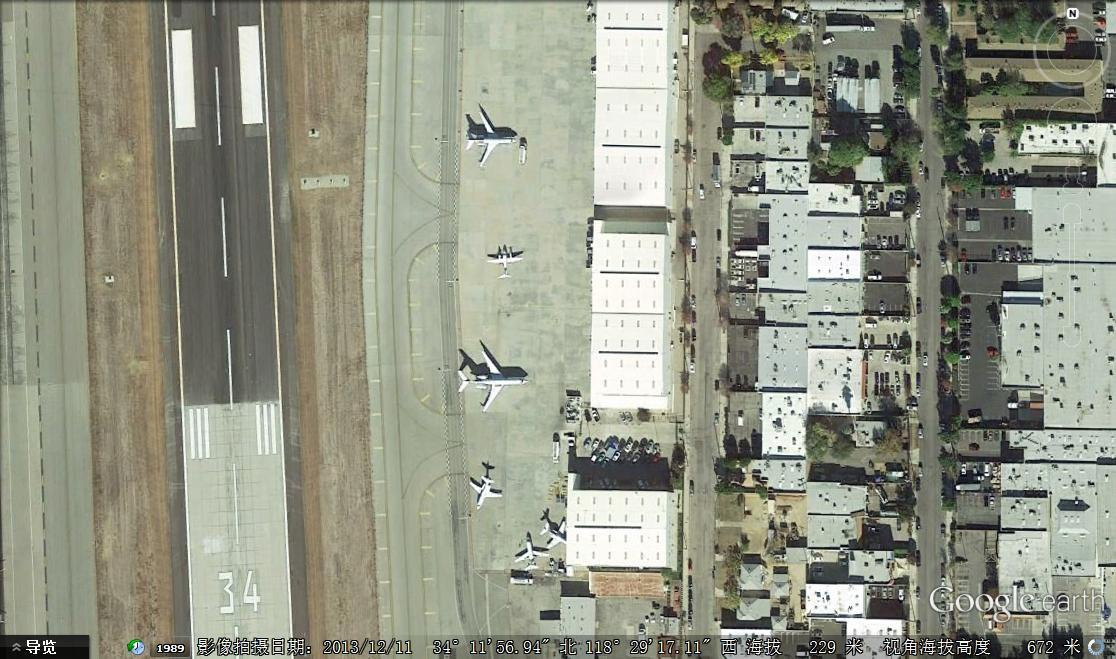aircraft: (456, 348, 533, 418), (459, 107, 520, 171), (464, 471, 505, 510), (513, 536, 552, 575), (485, 246, 525, 282), (540, 517, 572, 552)
